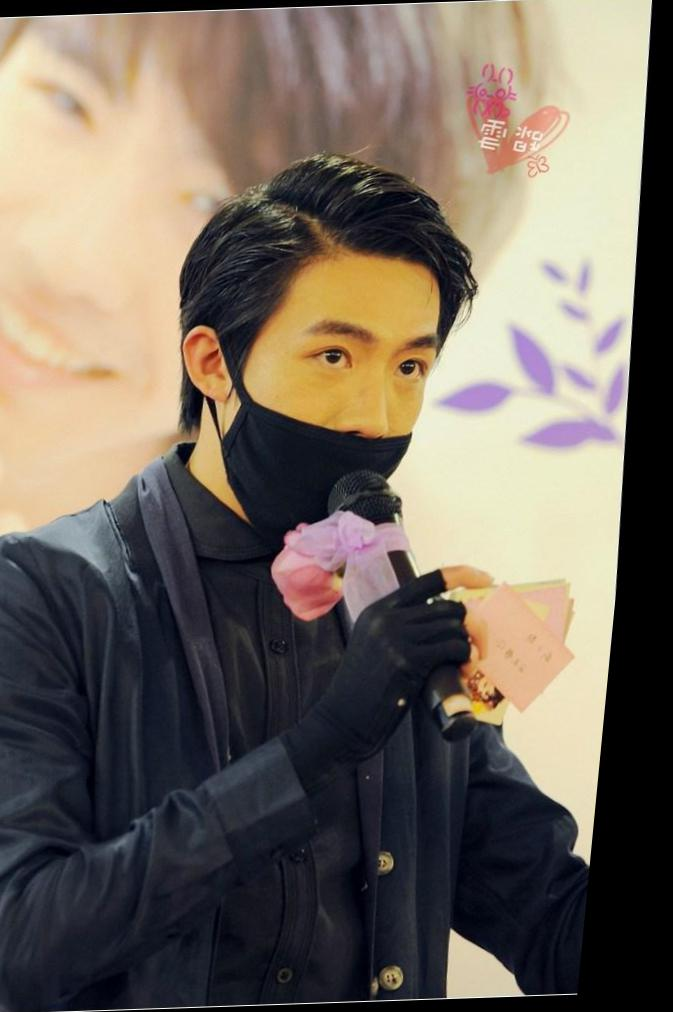NONE: (1, 28, 355, 446)
WRONG: (231, 312, 457, 534)
